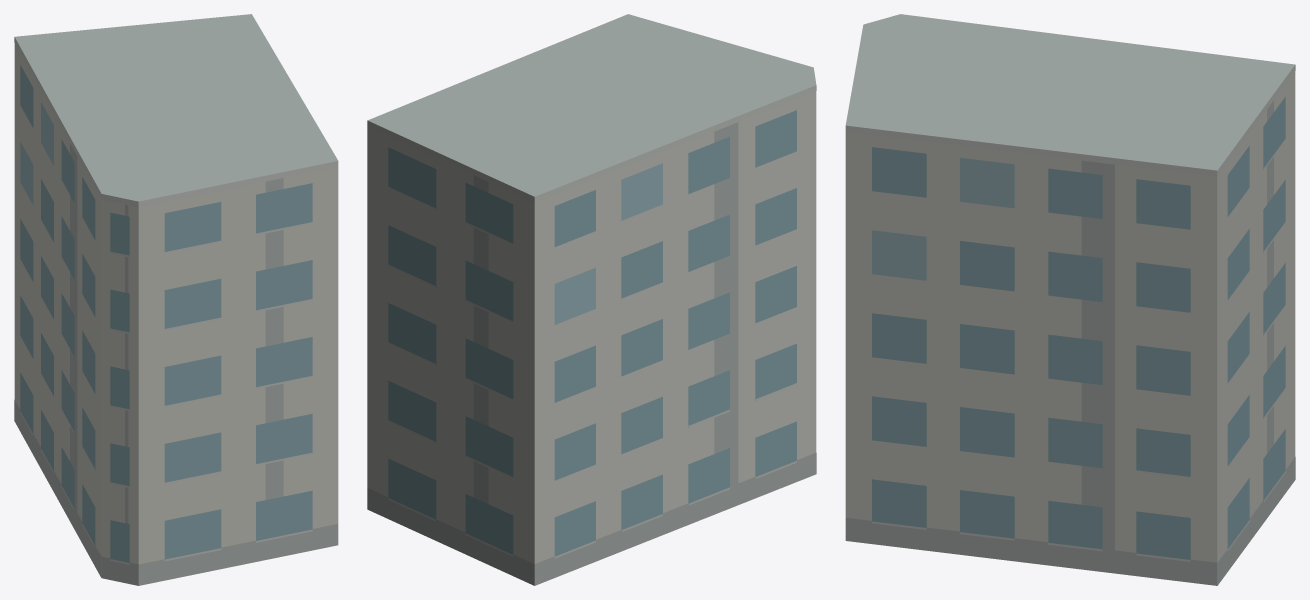
The model's file is survey-upis-32871935.glb.
3 renders of one model, left to right at view 1: azimuth 30°, elevation 25°; view 2: azimuth 150°, elevation 25°; view 3: azimuth 270°, elevation 25°, orthographic. The views are drawn at different scales.
Visible parts, largest first — view 1: survey-upis-32871935.tmp; view 2: survey-upis-32871935.tmp; view 3: survey-upis-32871935.tmp.
Boxes of the visible parts, <box> form: survey-upis-32871935.tmp: <box>14,14,338,585</box>; survey-upis-32871935.tmp: <box>367,14,816,585</box>; survey-upis-32871935.tmp: <box>845,14,1295,585</box>.
Size of the model in its own units: 12.7 by 15.7 by 15.42.
